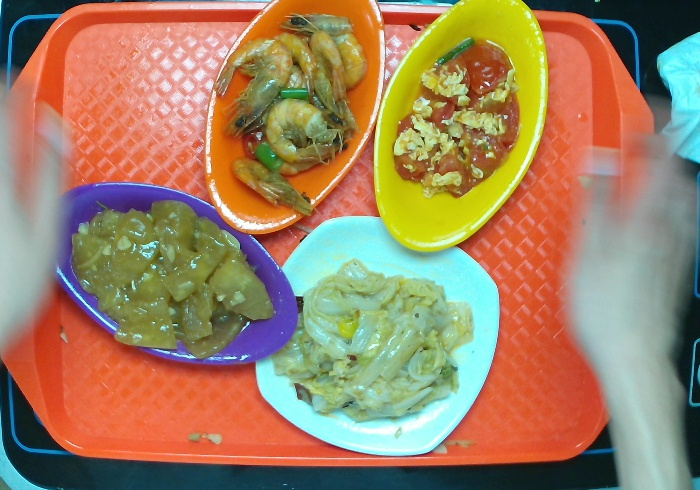RJxy-Fen_Hong_Tuo_Yuan: (51, 173, 306, 375)
RJxy-Huang_Se_Tuo_Yuan: (361, 1, 552, 256)
RJxy-Ju_Huang_Tuo_Yuan: (200, 1, 391, 232)
RJxy-Si_Fang_Die: (256, 213, 500, 458)
